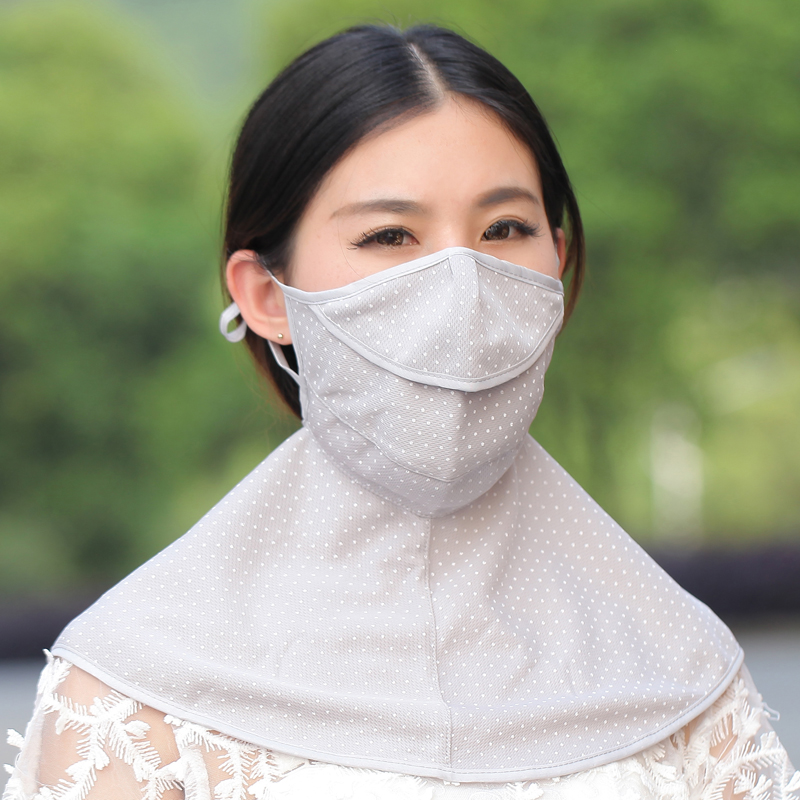face_mask: (290, 99, 560, 469)
